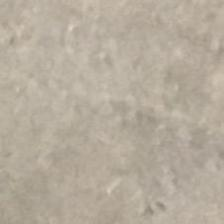Non_Crack: (13, 5, 201, 210)
